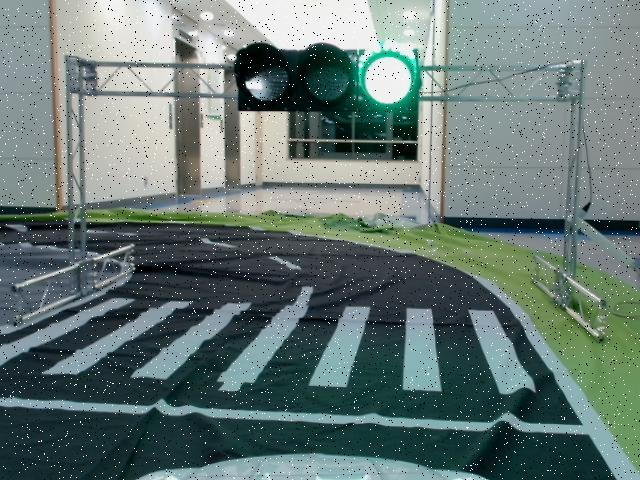crosswalk: (0, 295, 539, 393)
traffic light-green-: (234, 42, 422, 112)
